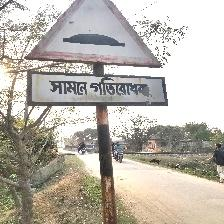Speed-breaker: (24, 0, 166, 108)
